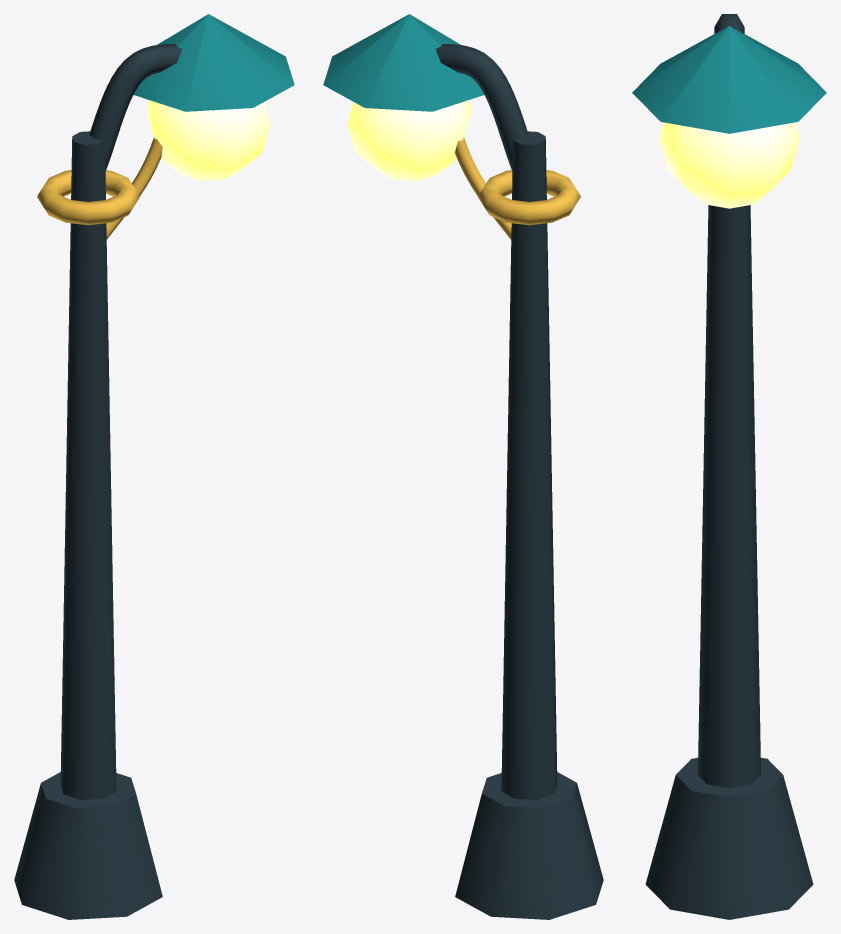
Rendered from lamp-post.glb.
The picture shows the model from 3 angles, left to right: view 1: azimuth 30°, elevation 25°; view 2: azimuth 150°, elevation 25°; view 3: azimuth 270°, elevation 25°; orthographic projection. The views are drawn at different scales.
Visible parts, largest first — view 1: Mesh_iron, Mesh_teal, Mesh_glowWarm, Mesh_gold; view 2: Mesh_iron, Mesh_teal, Mesh_glowWarm, Mesh_gold; view 3: Mesh_iron, Mesh_teal, Mesh_glowWarm.
Part boxes in pixels (x1,y1,x2,y2): Mesh_iron: (14,44,182,919); Mesh_teal: (133,14,294,111); Mesh_glowWarm: (146,100,270,180); Mesh_gold: (37,137,162,239); Mesh_iron: (435,44,603,919); Mesh_teal: (323,14,484,111); Mesh_glowWarm: (347,100,471,180); Mesh_gold: (455,137,580,239); Mesh_iron: (645,14,813,919); Mesh_teal: (632,26,826,133); Mesh_glowWarm: (659,122,799,208).
Bounding box in the file's own units: 0.99 × 3.03 × 0.58.
